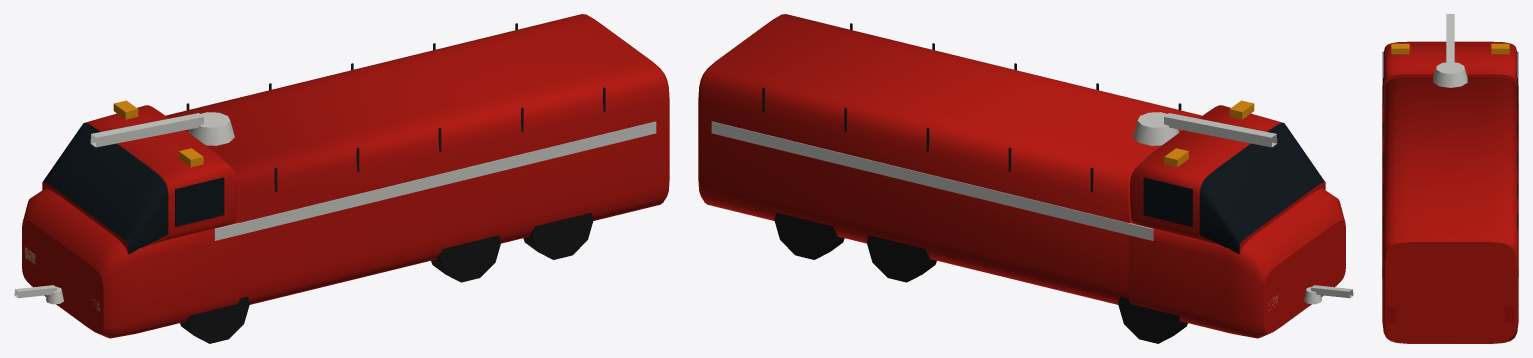
File: fire_truck.glb
The picture shows the model from 3 angles, left to right: view 1: azimuth 30°, elevation 25°; view 2: azimuth 150°, elevation 25°; view 3: azimuth 270°, elevation 25°; orthographic projection. The views are drawn at different scales.
Visible parts, largest first — view 1: fire_truck; view 2: fire_truck; view 3: fire_truck.
Boxes of the visible parts, x1,y1,x2,y2 form: fire_truck: (14,14,669,343); fire_truck: (698,14,1353,343); fire_truck: (1382,14,1518,343).
Size of the model in its own units: 11.92 by 3.61 by 3.01.
